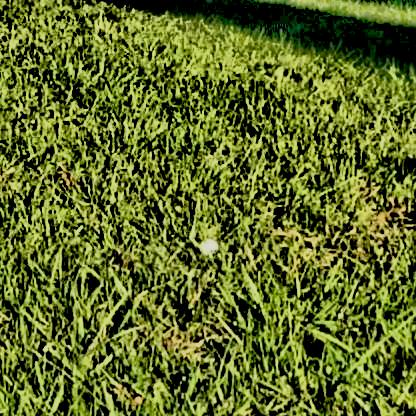golfball: (196, 234, 217, 253)
